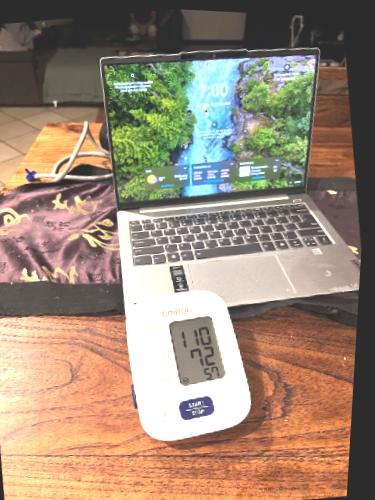bpm: (165, 313, 226, 387)
